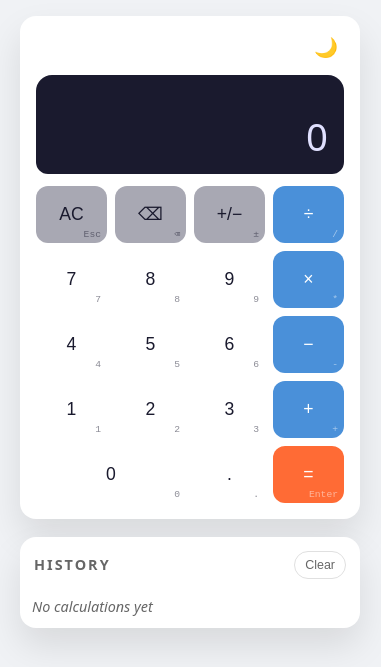
Test: App › clears the display when Escape is pressed
The image size is (381, 667).
Click the button "9 9" at (230, 279), box [194,251,265,308]
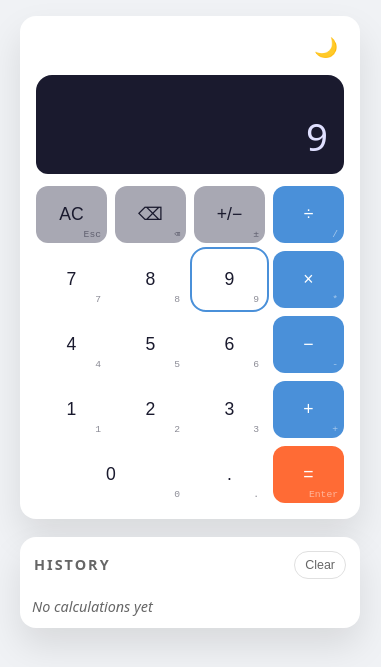
Press Escape
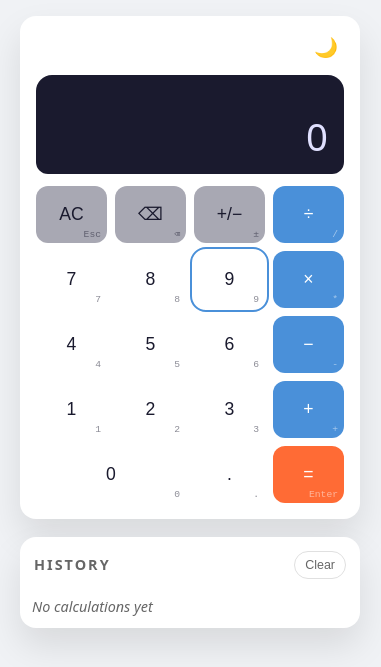
Expected: the 1st text "0" is shown, [306,110,328,162]
